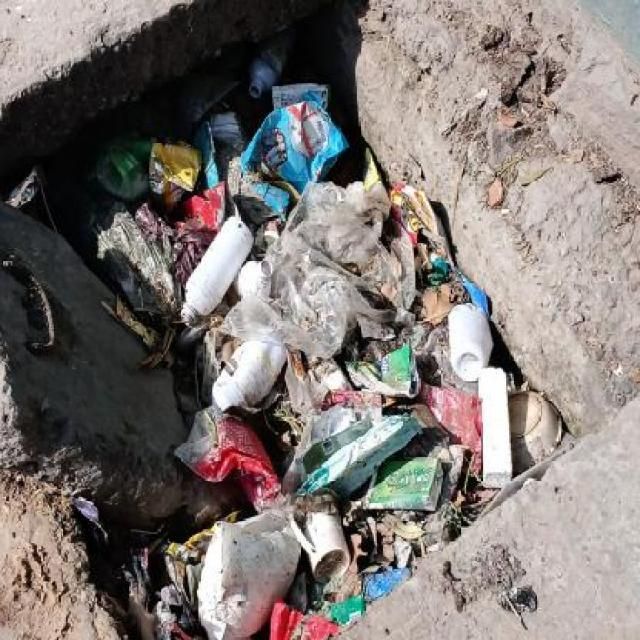garbage: (5, 66, 566, 639)
